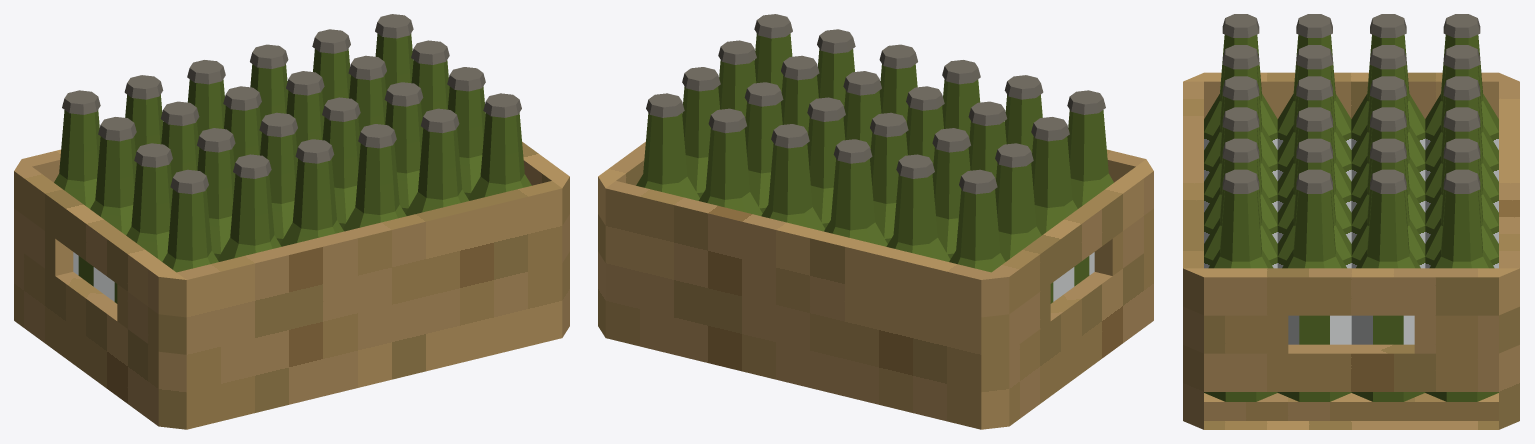
Rendered from drinkcrate.obj.
3 renders of one model, left to right at view 1: azimuth 30°, elevation 25°; view 2: azimuth 150°, elevation 25°; view 3: azimuth 270°, elevation 25°, orthographic.
Visible parts, largest first — view 1: cuboid, bottle_4, bottle_5, bottle_3, bottle_9, bottle_22, bottle_21, bottle_14, bottle_13, bottle_2, bottle_23, bottle_8 (+13 smaller); view 2: cuboid, bottle_3, bottle_2, bottle_4, bottle_1, bottle_6, bottle_18, bottle_17, bottle_10, bottle_5, bottle_24, bottle_7 (+13 smaller); view 3: cuboid, bottle_20, bottle_19, bottle_18, bottle_21, bottle_8, bottle_12, bottle_16, bottle_7, bottle_11, bottle_15, bottle_4 (+13 smaller).
Boxes of the visible parts, x1,y1,x2,y2 form: cuboid: [14, 141, 569, 429]; bottle_4: [78, 117, 136, 301]; bottle_5: [54, 90, 100, 275]; bottle_3: [114, 143, 172, 303]; bottle_9: [217, 154, 281, 261]; bottle_22: [405, 108, 468, 215]; bottle_21: [468, 93, 531, 200]; bottle_14: [280, 139, 343, 246]; bottle_13: [343, 124, 406, 231]; bottle_2: [162, 169, 218, 272]; bottle_23: [384, 82, 423, 213]; bottle_8: [197, 128, 235, 259]; cuboid: [598, 141, 1153, 429]; bottle_3: [1031, 117, 1089, 301]; bottle_2: [1067, 90, 1113, 275]; bottle_4: [995, 143, 1053, 303]; bottle_1: [699, 108, 762, 215]; bottle_6: [886, 154, 950, 261]; bottle_18: [636, 93, 699, 200]; bottle_17: [824, 139, 887, 246]; bottle_10: [761, 124, 824, 231]; bottle_5: [949, 169, 1005, 272]; bottle_24: [744, 82, 783, 213]; bottle_7: [932, 128, 970, 259]; cuboid: [1183, 72, 1519, 429]; bottle_20: [1277, 169, 1351, 401]; bottle_19: [1351, 169, 1425, 401]; bottle_18: [1425, 169, 1498, 401]; bottle_21: [1204, 169, 1277, 401]; bottle_8: [1277, 45, 1351, 181]; bottle_12: [1277, 107, 1351, 243]; bottle_16: [1351, 76, 1425, 212]; bottle_7: [1351, 45, 1425, 181]; bottle_11: [1351, 107, 1425, 243]; bottle_15: [1277, 76, 1351, 212]; bottle_4: [1351, 14, 1425, 149].
Bounding box in the file's own units: 0.7188 × 0.375 × 0.502.
